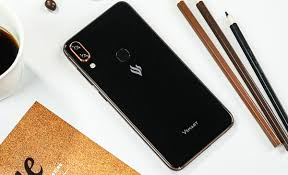vsmart: (58, 1, 234, 171)
